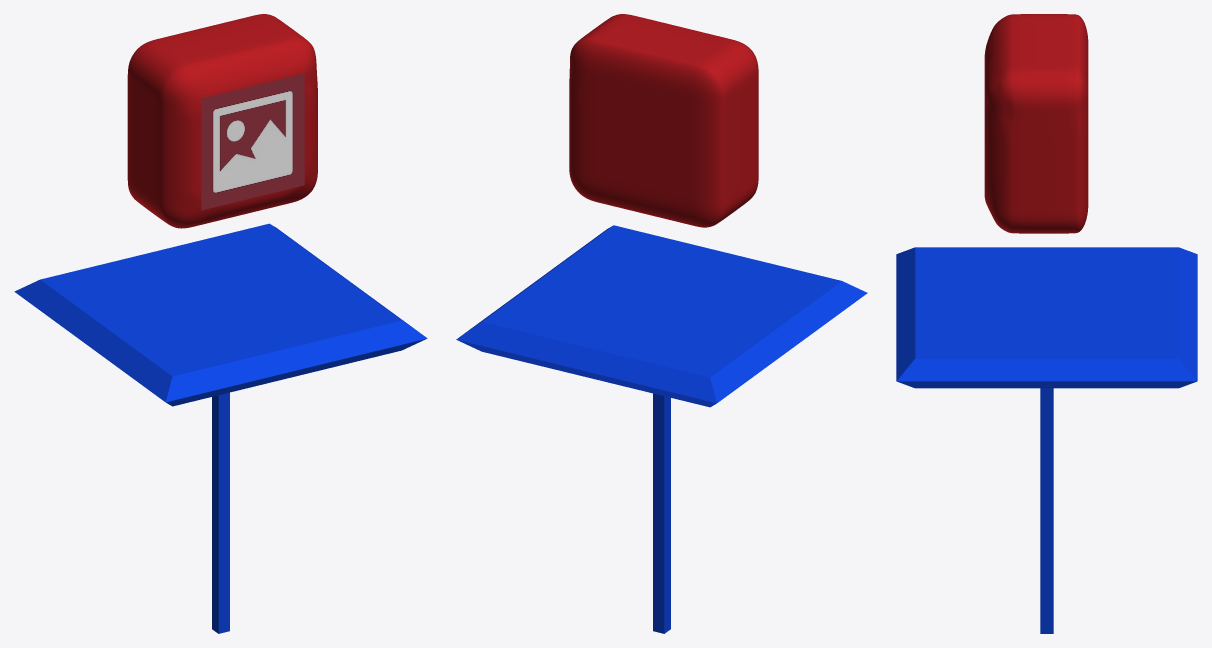
Rendered from Gallery.gltf.
3 renders of one model, left to right at view 1: azimuth 30°, elevation 25°; view 2: azimuth 150°, elevation 25°; view 3: azimuth 270°, elevation 25°, orthographic.
Visible parts, largest first — view 1: Cube, Github, Plane; view 2: Cube, Github; view 3: Cube, Github.
Boxes of the visible parts, bbox=[...] form: Cube: bbox=[14, 223, 427, 633]; Github: bbox=[127, 14, 317, 228]; Plane: bbox=[201, 73, 304, 210]; Cube: bbox=[456, 225, 867, 633]; Github: bbox=[569, 14, 758, 227]; Cube: bbox=[896, 247, 1197, 633]; Github: bbox=[984, 14, 1088, 233].
Size of the model in its own units: 9.14 by 19.73 by 9.14.
4 materials, 1 textured.
